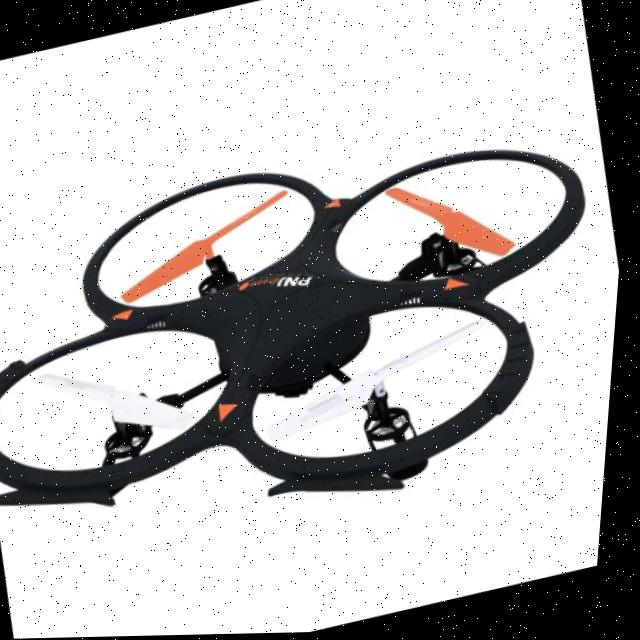drones: (0, 86, 634, 611)
